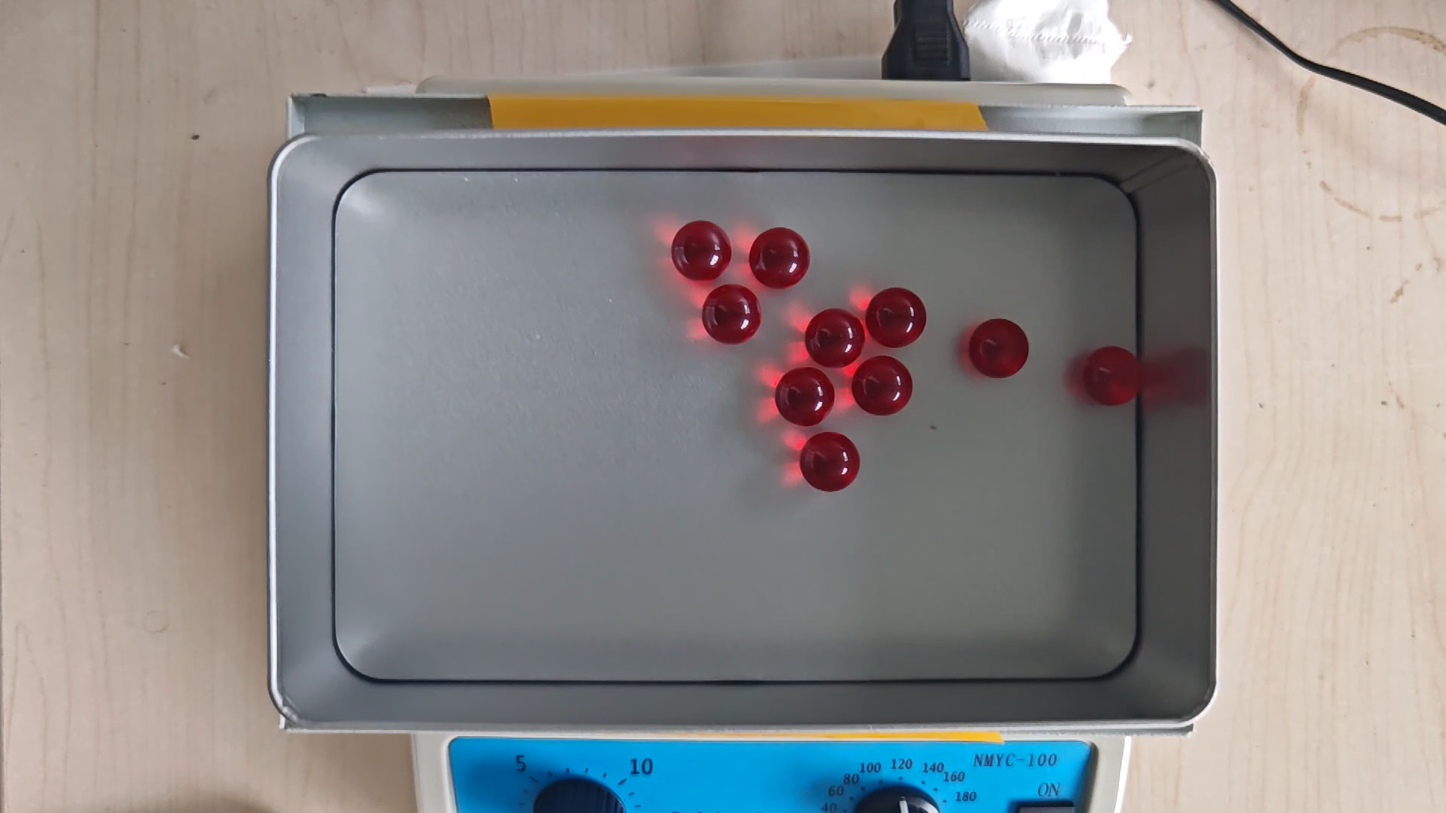ball: (852, 355, 915, 417), (750, 226, 810, 290), (671, 219, 731, 282), (800, 431, 861, 492), (969, 317, 1029, 379), (1083, 345, 1142, 408), (702, 283, 761, 345), (867, 287, 926, 348), (806, 308, 866, 367), (775, 367, 833, 427)
container: (333, 170, 1138, 682)
